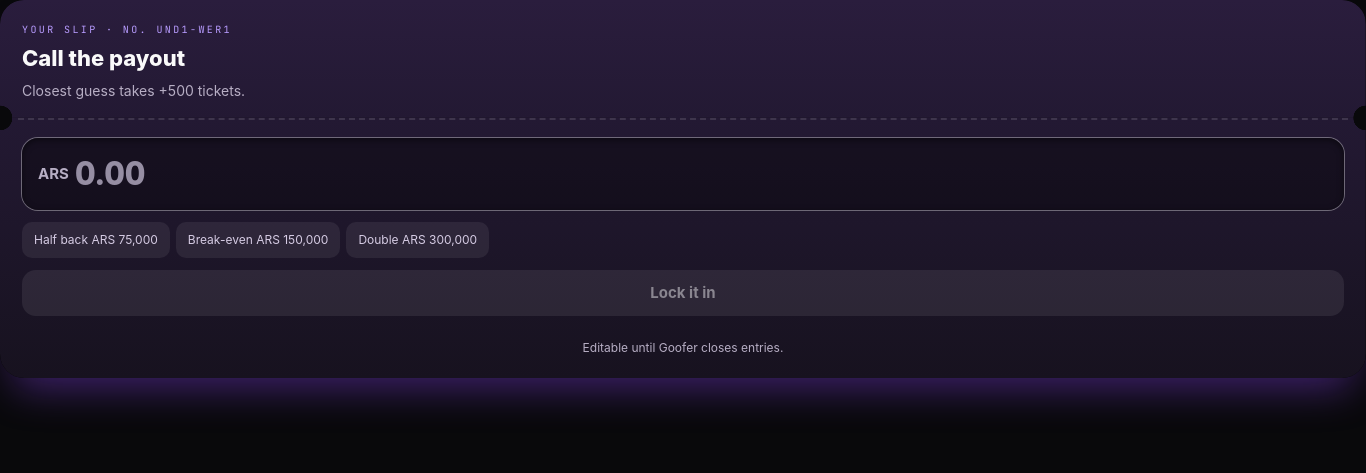
Scenario: during the edit cooldown the lock button points at the countdown
This screenshot has width=1366, height=473.
Type "2000" into the field named "Final payout guess" at (701, 174), box [75,142,1328,206]
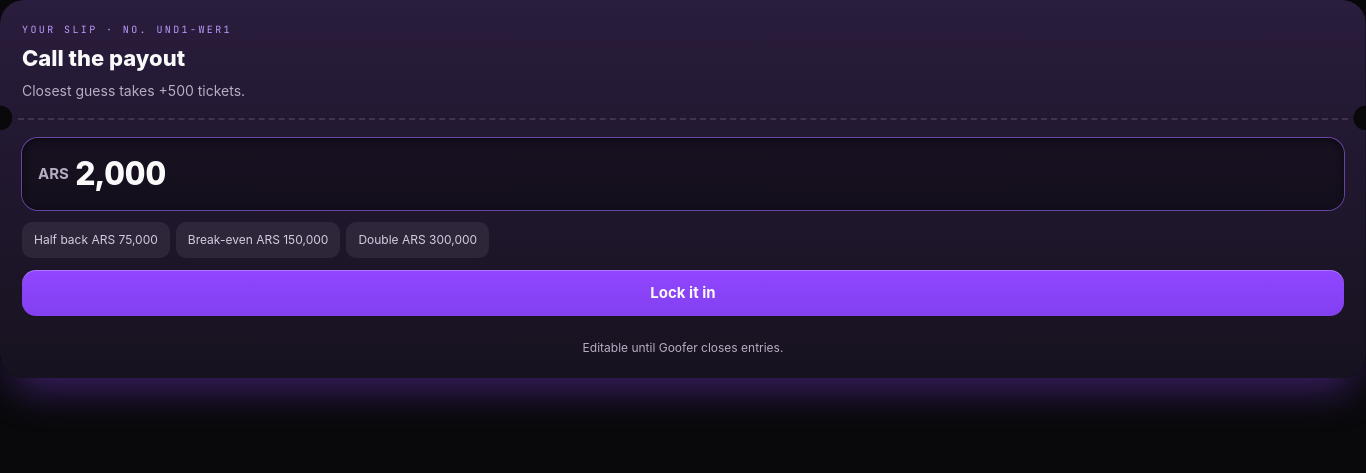
Click the button "Lock it in" at (683, 293), box [22,270,1344,316]
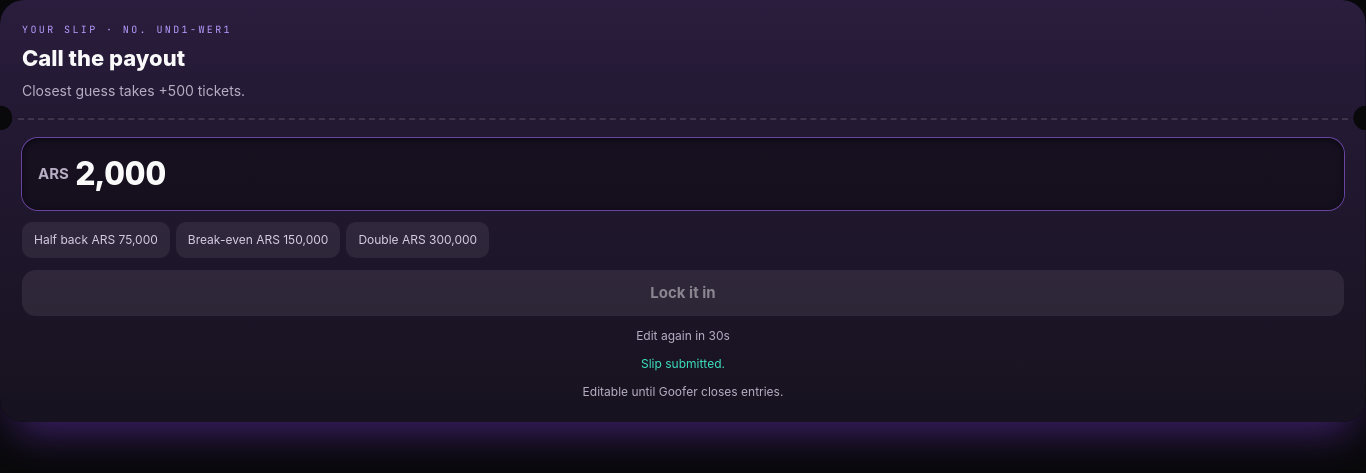
Expected: the text "Slip submitted." is shown, [641,356,725,371]
Expected: the text "Edit again in 30s" is shown, [636,328,730,343]
